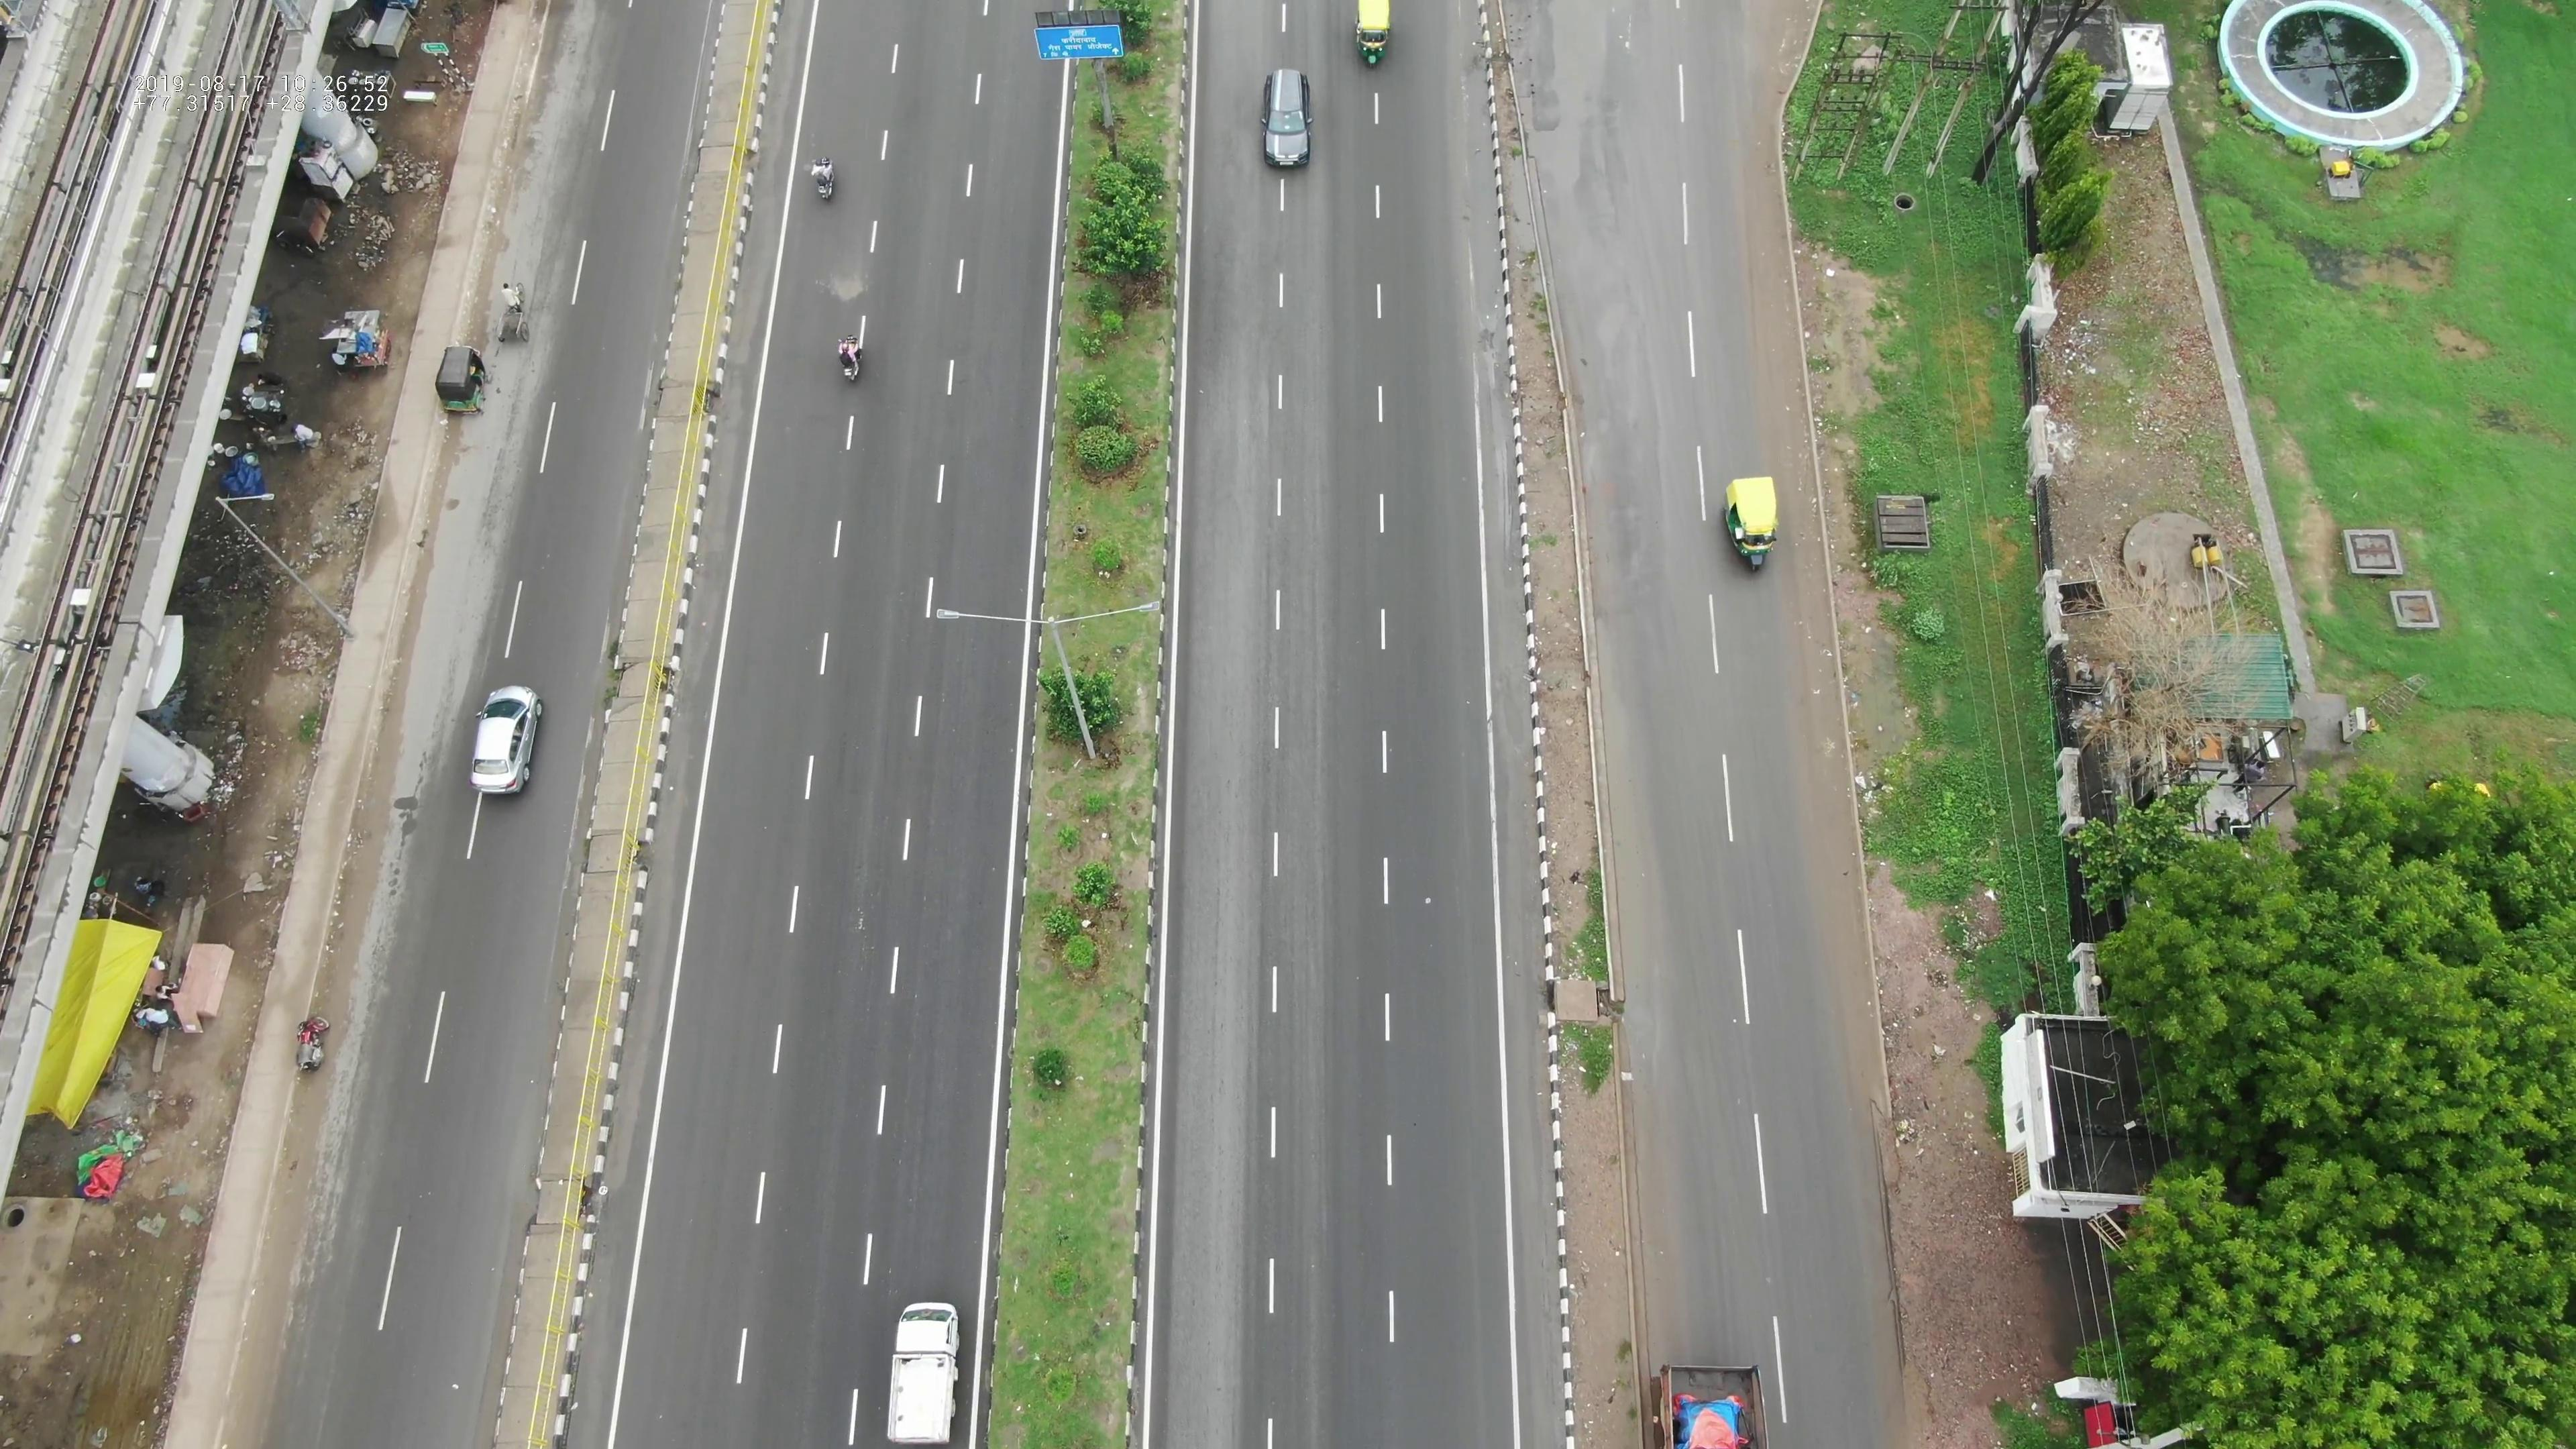Muddy_road: (1729, 175, 1796, 439)
Waterlogging: (1509, 0, 1629, 258)
